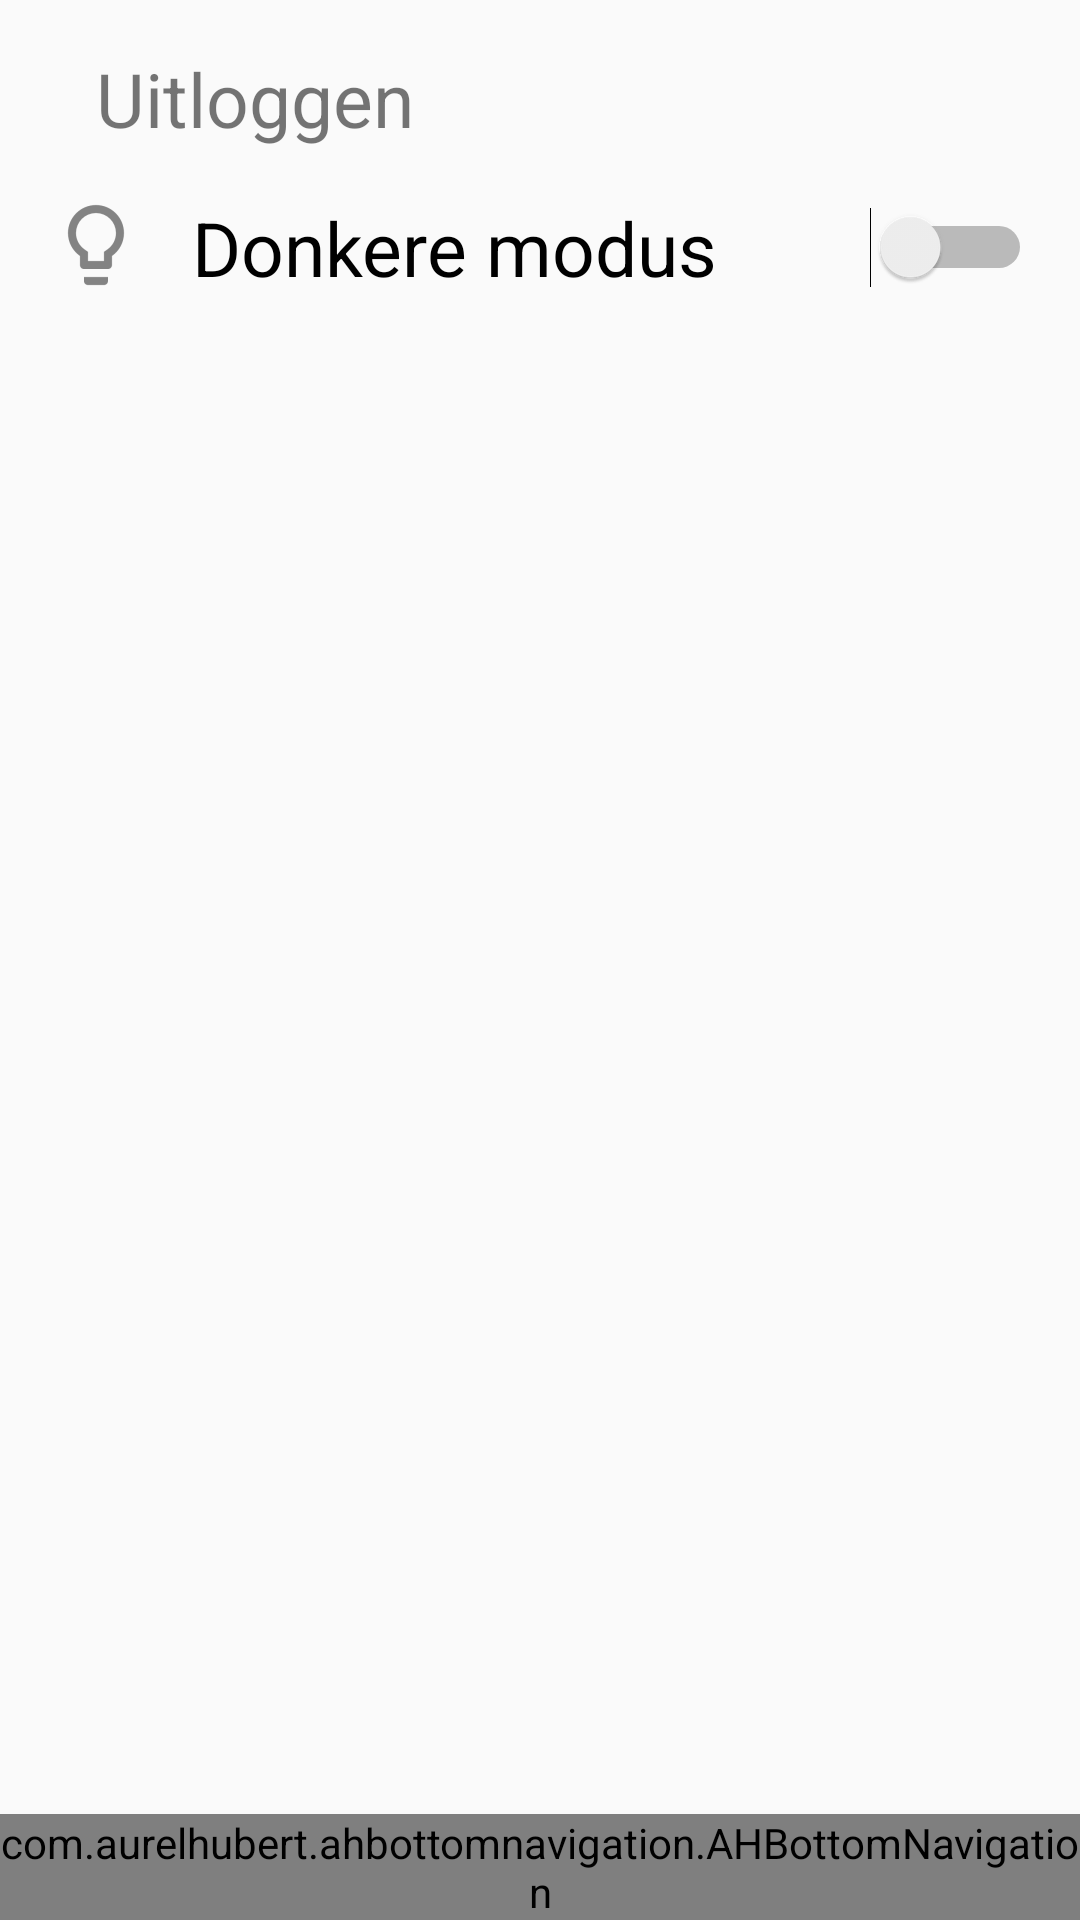

Named icons in this screenshot (1080x1920) and their centers, (x,y):
lightbulb: (96,245)
